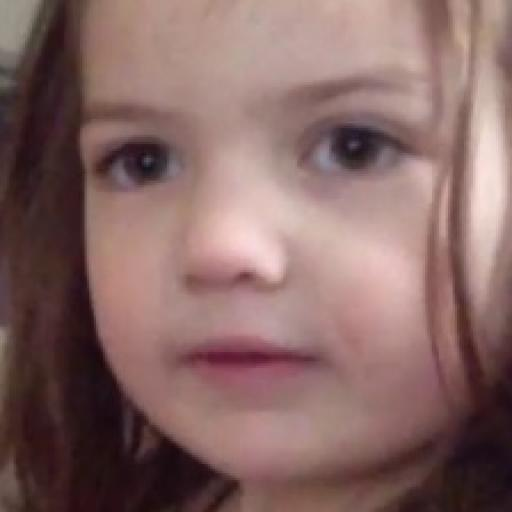Autism: (42, 2, 512, 510)
